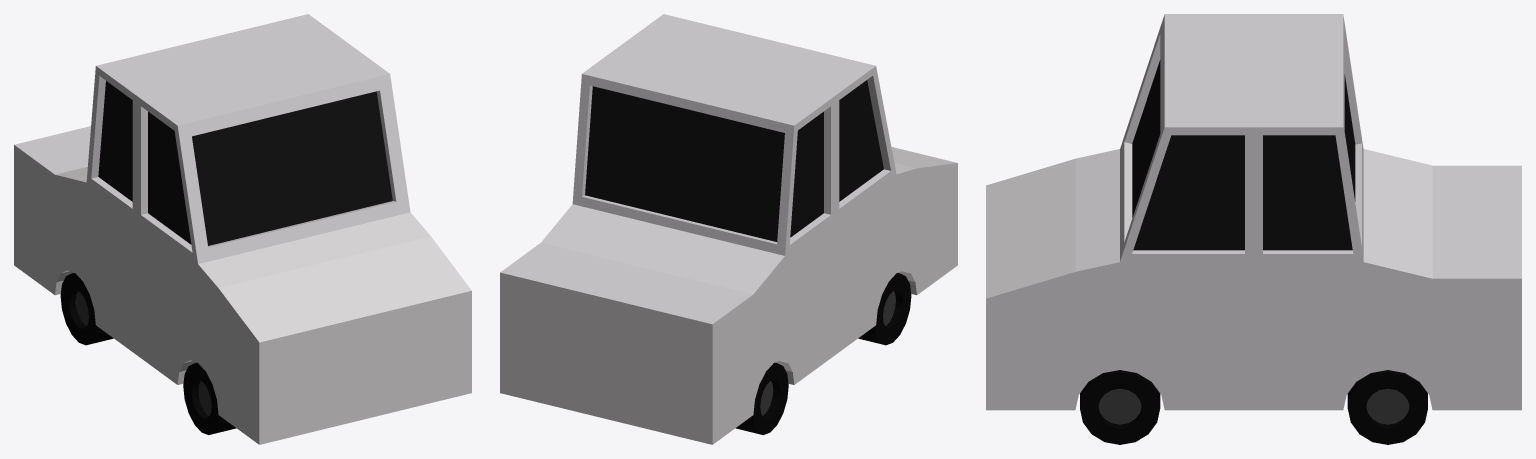
Rendered from mobil 2.fbx.
The picture shows the model from 3 angles, left to right: view 1: azimuth 30°, elevation 25°; view 2: azimuth 150°, elevation 25°; view 3: azimuth 270°, elevation 25°; orthographic projection. The views are drawn at different scales.
Parts seen in each view (by area): view 1: fix.006; view 2: fix.006; view 3: fix.006.
Part boxes in pixels (x1,y1,x2,y2): fix.006: [14, 14, 471, 444]; fix.006: [500, 14, 957, 444]; fix.006: [986, 14, 1521, 444].
Size of the model in its own units: 300 by 600 by 395.
Materials: 2 (1 with a texture image).
